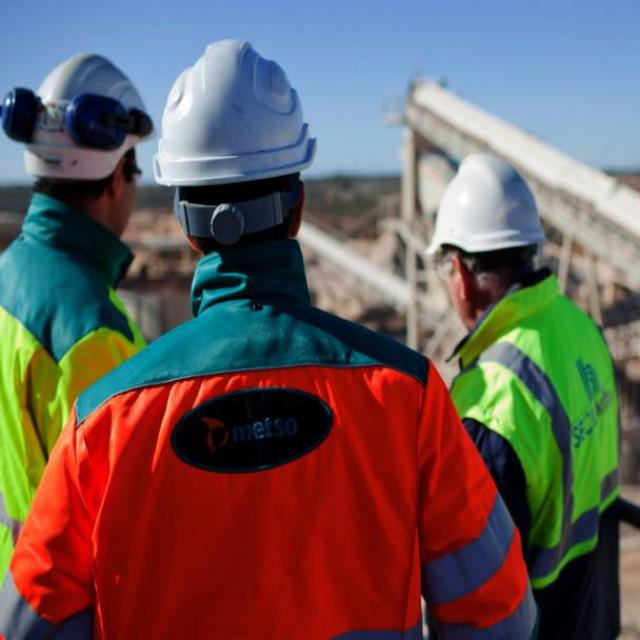helmet: (164, 32, 313, 254), (9, 39, 150, 256), (408, 108, 555, 314)
vest: (50, 323, 539, 639), (451, 320, 640, 639), (2, 260, 109, 468)
